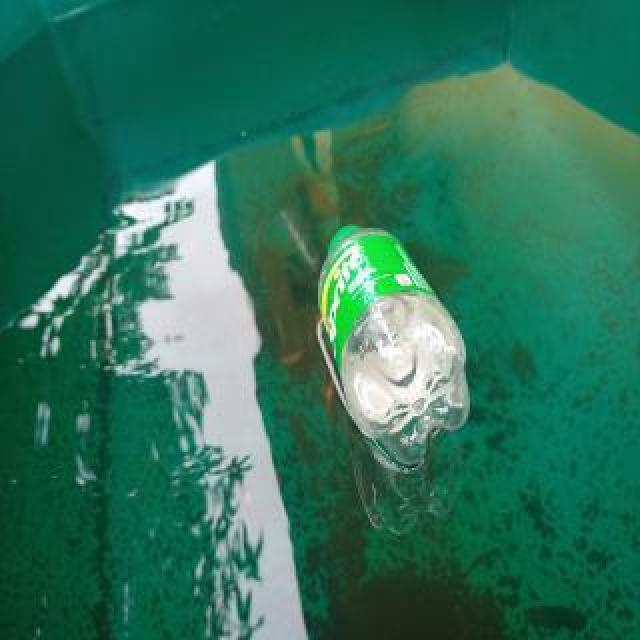bottle: (316, 215, 478, 471)
